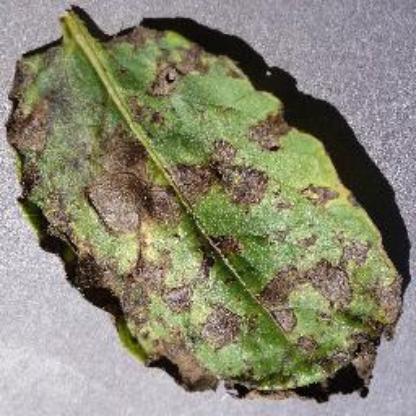Early-Blight: (7, 4, 409, 404)
